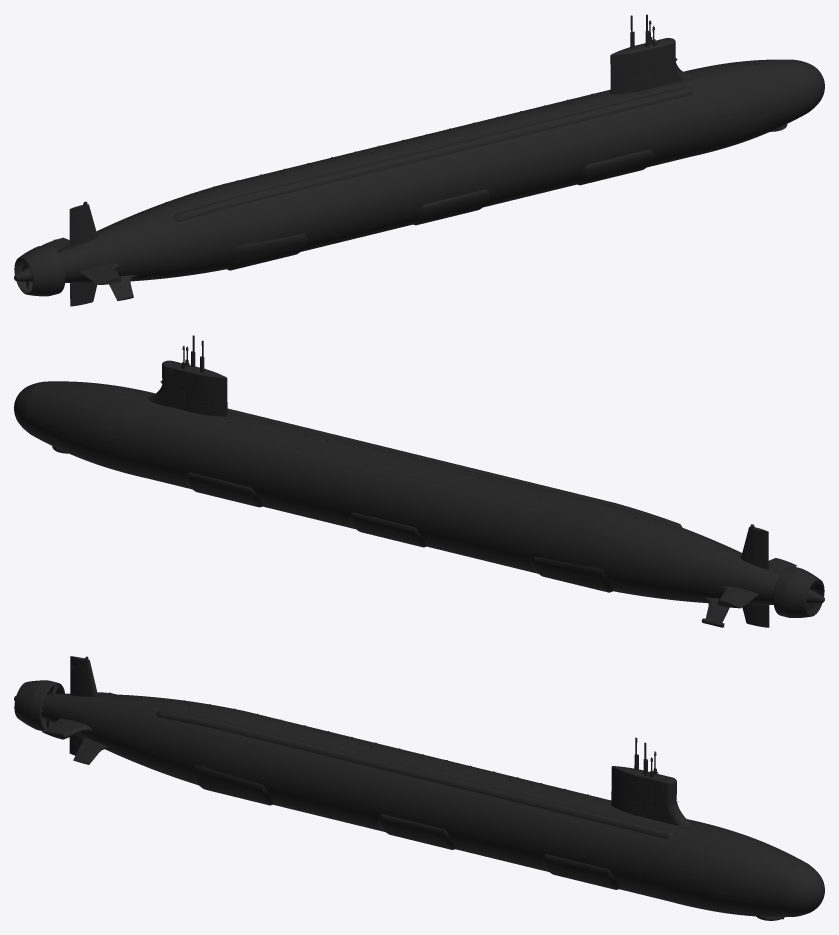
The model's file is uss_texas_ssn-775_submarine.glb.
The picture shows the model from 3 angles, top to bottom: view 1: azimuth 30°, elevation 25°; view 2: azimuth 150°, elevation 25°; view 3: azimuth 330°, elevation 25°; orthographic projection.
Parts seen in each view (by area): view 1: Object_2, Object_3; view 2: Object_2, Object_3; view 3: Object_2, Object_3.
Boxes of the visible parts, x1=… form: Object_2: x1=14, y1=14, x2=824, y2=306; Object_3: x1=15, y1=20, x2=824, y2=301; Object_2: x1=14, y1=335, x2=824, y2=627; Object_3: x1=27, y1=345, x2=817, y2=622; Object_2: x1=14, y1=656, x2=824, y2=920; Object_3: x1=41, y1=685, x2=821, y2=920.
Size of the model in its own units: 376 by 67.55 by 45.44.
1 material, 1 textured.
